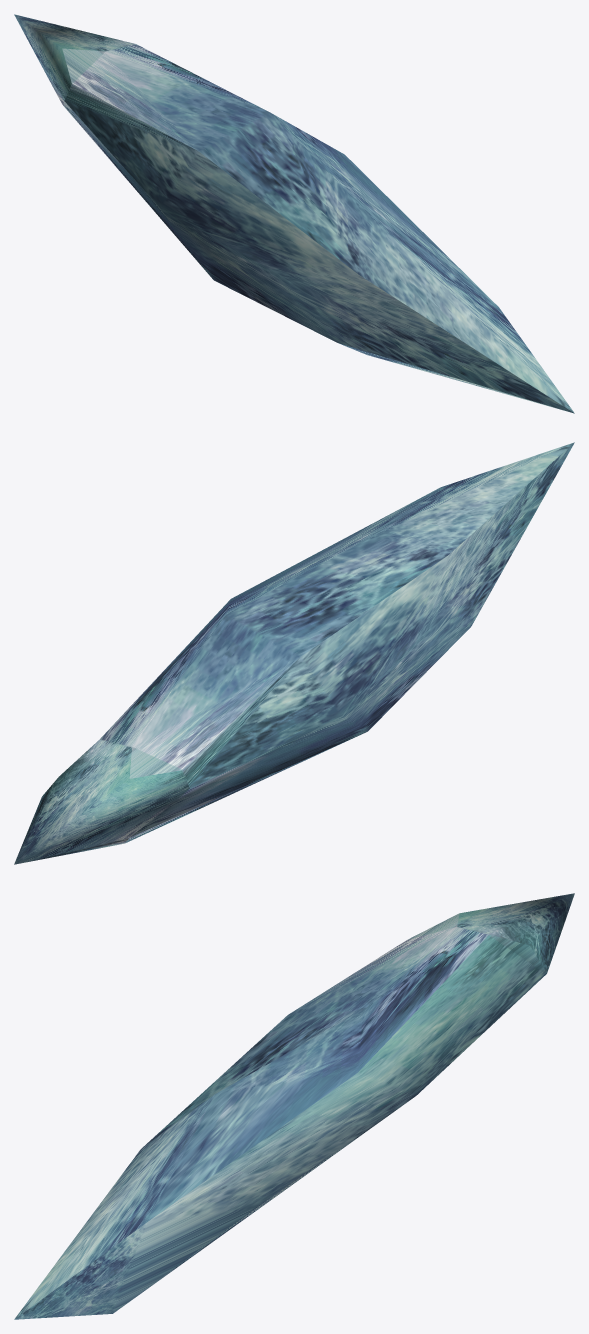
Rendered from proj_cassandra_ice01.fbx.
3 renders of one model, top to bottom at view 1: azimuth 30°, elevation 25°; view 2: azimuth 150°, elevation 25°; view 3: azimuth 330°, elevation 25°, orthographic. The views are drawn at different scales.
Parts seen in each view (by area): view 1: icespear; view 2: icespear; view 3: icespear.
Boxes of the visible parts, x1,y1,x2,y2 form: icespear: (14, 14, 574, 413); icespear: (14, 442, 574, 864); icespear: (14, 893, 574, 1319).
Size of the model in its own units: 0.1555 by 0.1104 by 0.9146.
